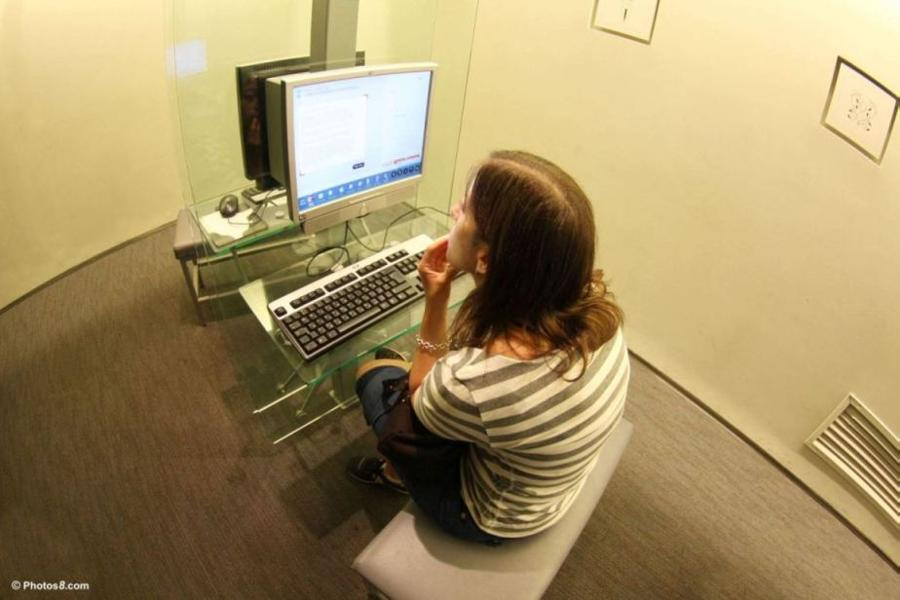person: (356, 152, 629, 545)
